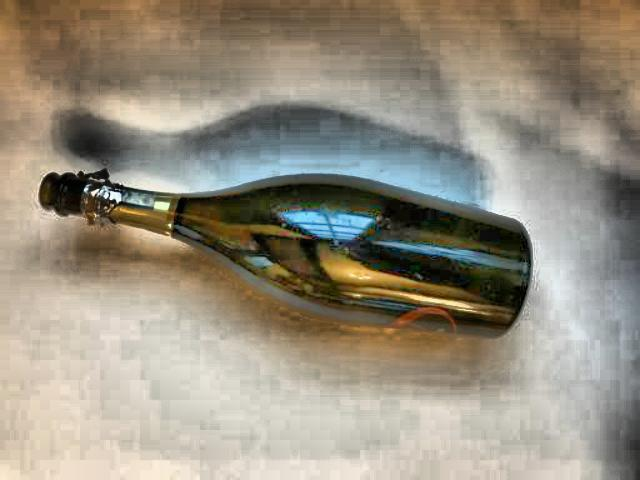Bottles: (27, 149, 531, 358)
